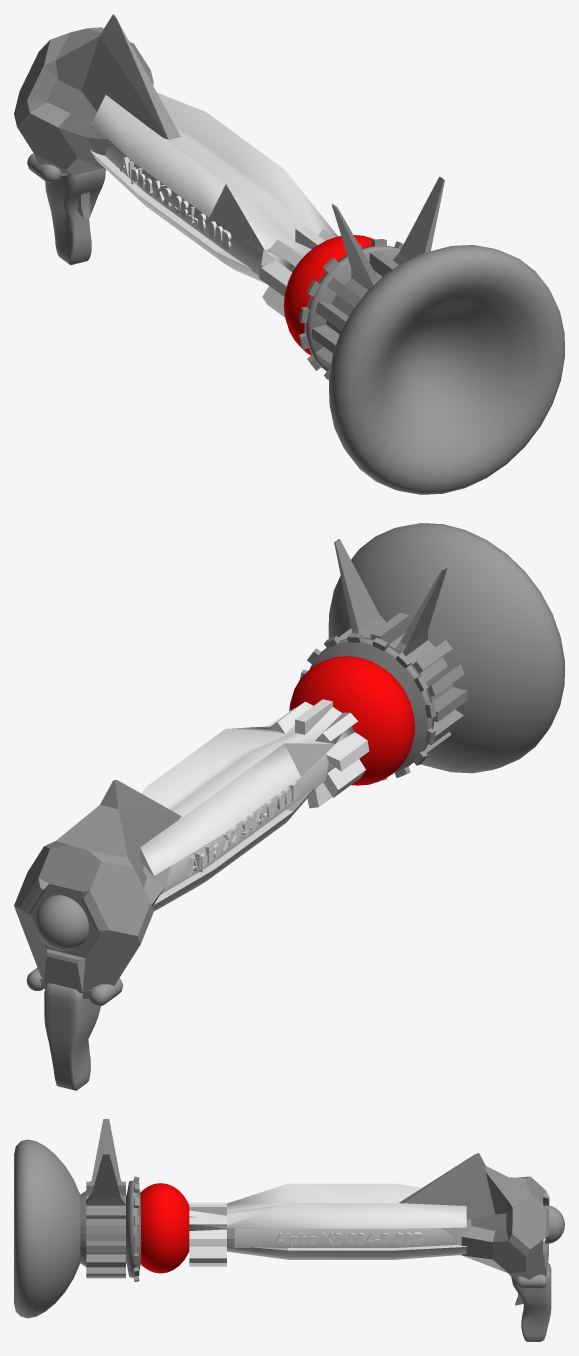
The model's file is Alpha X2 934-6 00B GUN.FBX.
The picture shows the model from 3 angles, top to bottom: view 1: azimuth 30°, elevation 25°; view 2: azimuth 150°, elevation 25°; view 3: azimuth 270°, elevation 25°; orthographic projection. The views are drawn at different scales.
Visible parts, largest first — view 1: Sphere001, Cylinder001, Text001; view 2: Sphere001, Cylinder001, Text001; view 3: Sphere001, Cylinder001, Text002.
Part boxes in pixels (bbox=[...]): Sphere001: bbox=[14, 14, 564, 494]; Cylinder001: bbox=[90, 92, 338, 317]; Text001: bbox=[120, 157, 231, 249]; Sphere001: bbox=[14, 523, 564, 1090]; Cylinder001: bbox=[140, 699, 369, 911]; Text001: bbox=[186, 782, 299, 876]; Sphere001: bbox=[14, 1119, 564, 1341]; Cylinder001: bbox=[189, 1183, 466, 1266]; Text002: bbox=[275, 1232, 422, 1247].
Bounding box in the file's own units: 11.97 × 14.99 × 36.89.
